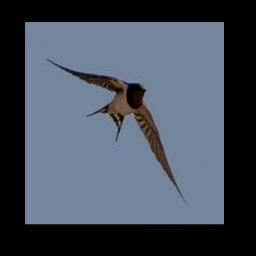Swallow: (45, 58, 189, 208)
